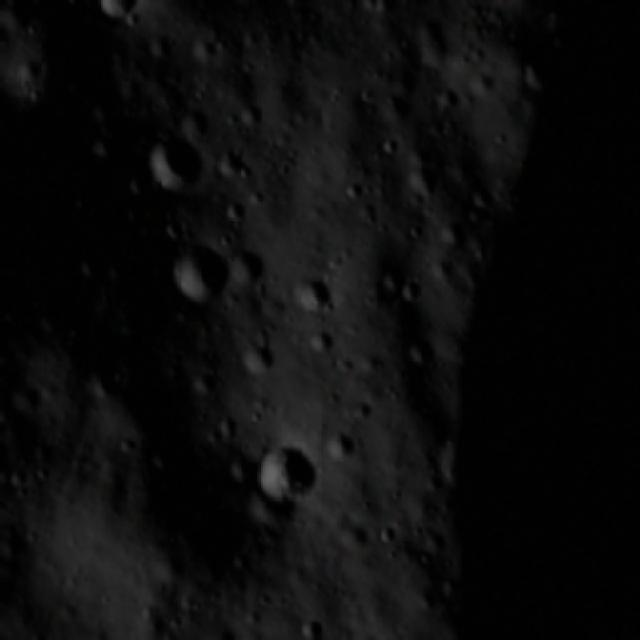crater: (252, 438, 316, 514), (176, 239, 236, 304), (144, 134, 196, 189), (516, 45, 558, 93), (291, 276, 331, 318), (91, 0, 146, 28), (0, 112, 23, 174), (192, 35, 235, 67), (212, 146, 250, 182), (397, 168, 440, 194), (239, 344, 273, 376), (91, 370, 120, 405), (180, 370, 218, 395), (86, 132, 115, 163), (179, 107, 213, 133), (405, 338, 437, 364), (399, 276, 427, 304), (463, 187, 499, 208), (237, 106, 266, 131), (548, 33, 578, 55), (220, 203, 249, 225), (436, 222, 466, 243), (78, 252, 102, 278), (339, 179, 367, 201), (436, 84, 458, 111), (375, 135, 403, 156), (545, 5, 570, 28), (144, 35, 170, 57), (156, 284, 178, 310), (74, 191, 97, 215), (124, 172, 145, 198), (295, 618, 320, 639), (162, 222, 188, 242), (121, 253, 139, 279), (488, 129, 508, 151), (382, 269, 400, 293), (395, 32, 416, 52), (458, 208, 488, 222), (375, 526, 396, 546), (357, 212, 378, 230), (359, 0, 390, 12), (403, 221, 422, 239), (246, 188, 263, 208), (146, 263, 166, 280), (215, 234, 234, 251), (3, 305, 15, 327), (382, 48, 396, 64)
